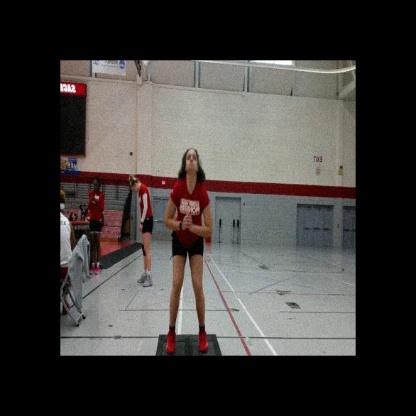lateral_flexion_right: (163, 145, 214, 356)
stance_width_normal: (164, 173, 215, 356)
